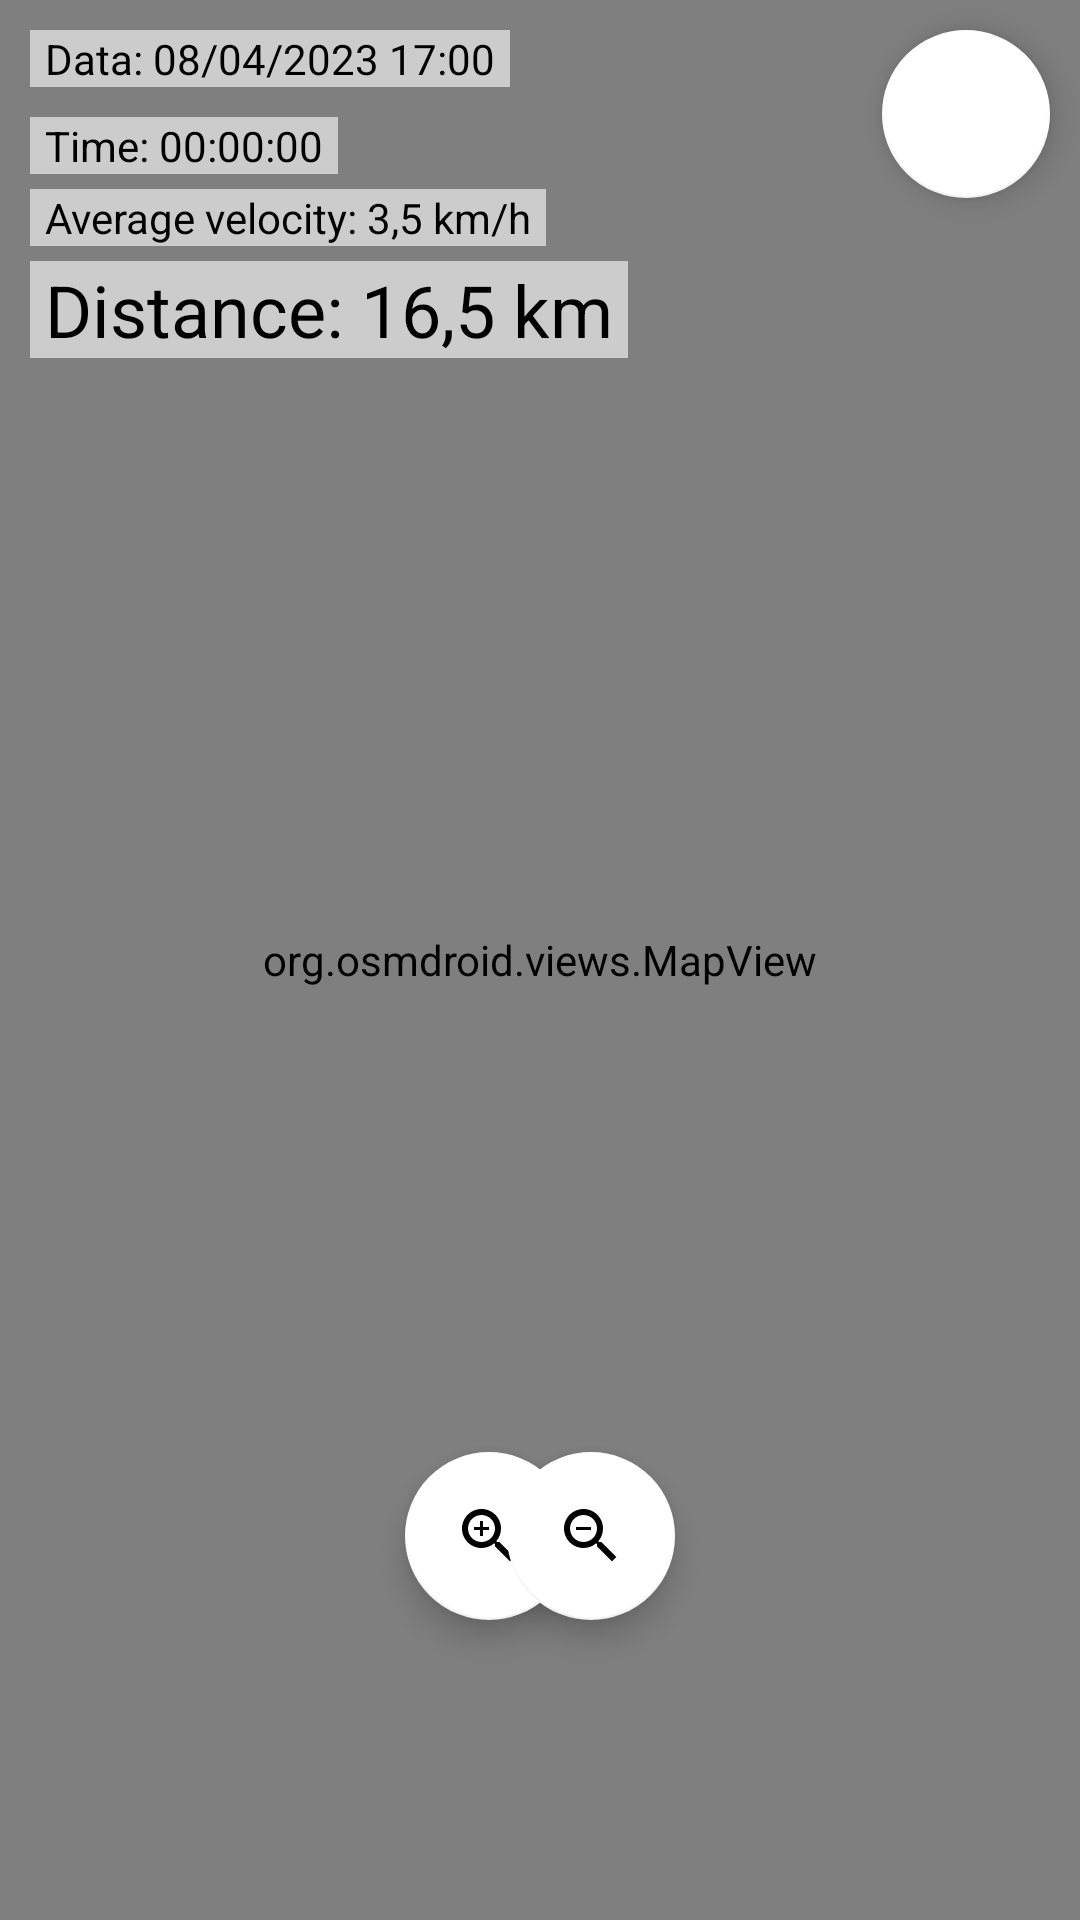

Screen size 1080w x 1920h. Icon name, then its box in pixels as box=[x1, y1, x2, y2]:
zoom in: box=[405, 1452, 573, 1620]
zoom out: box=[507, 1452, 675, 1620]
